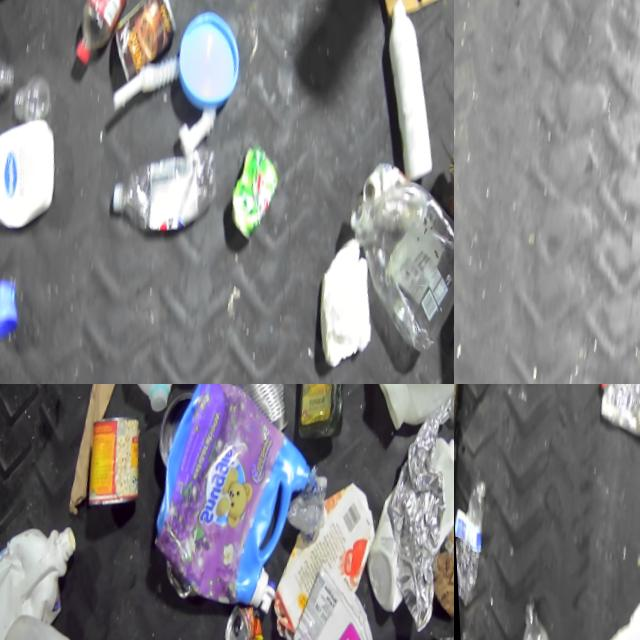can: (102, 0, 185, 96), (75, 411, 145, 514), (218, 145, 283, 251), (205, 384, 300, 439), (355, 163, 401, 213), (209, 603, 268, 640)
milk_jug: (0, 511, 80, 640)
non_white_jug: (131, 384, 325, 622), (323, 176, 454, 371)
plastic_bottle: (101, 137, 222, 247), (64, 0, 156, 78), (454, 471, 490, 606), (582, 384, 640, 461), (504, 589, 560, 640), (0, 43, 18, 121)
